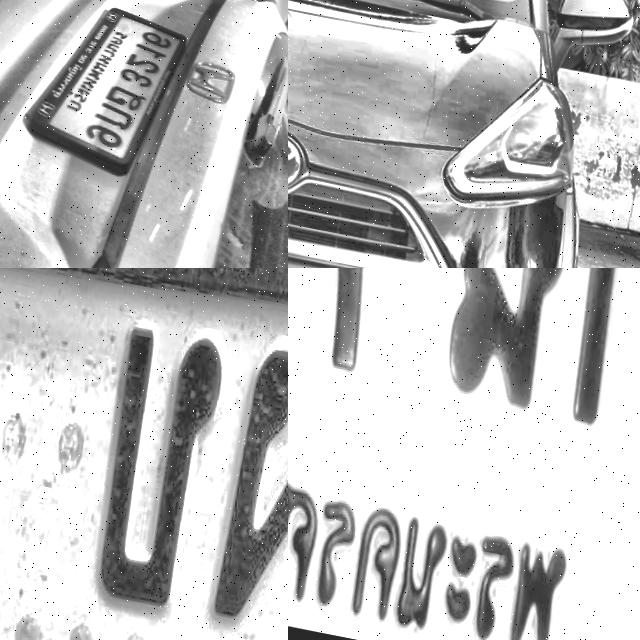license-plate: (288, 268, 640, 640), (0, 268, 288, 640), (162, 135, 271, 268)
